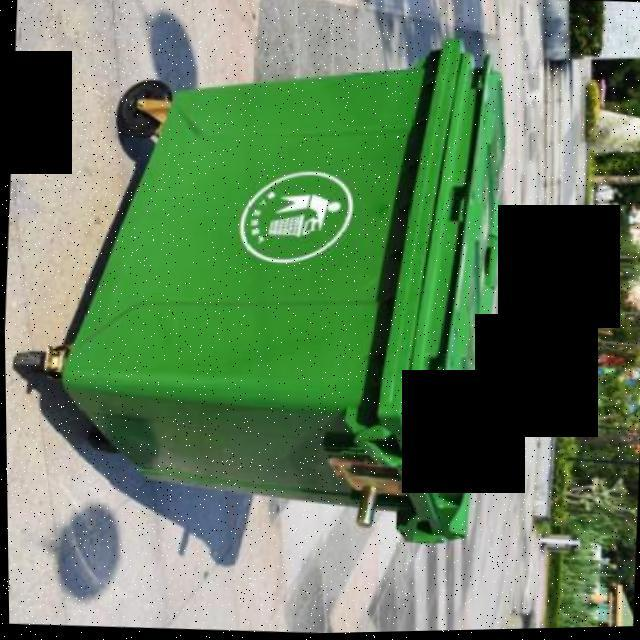bin: (0, 0, 528, 572)
